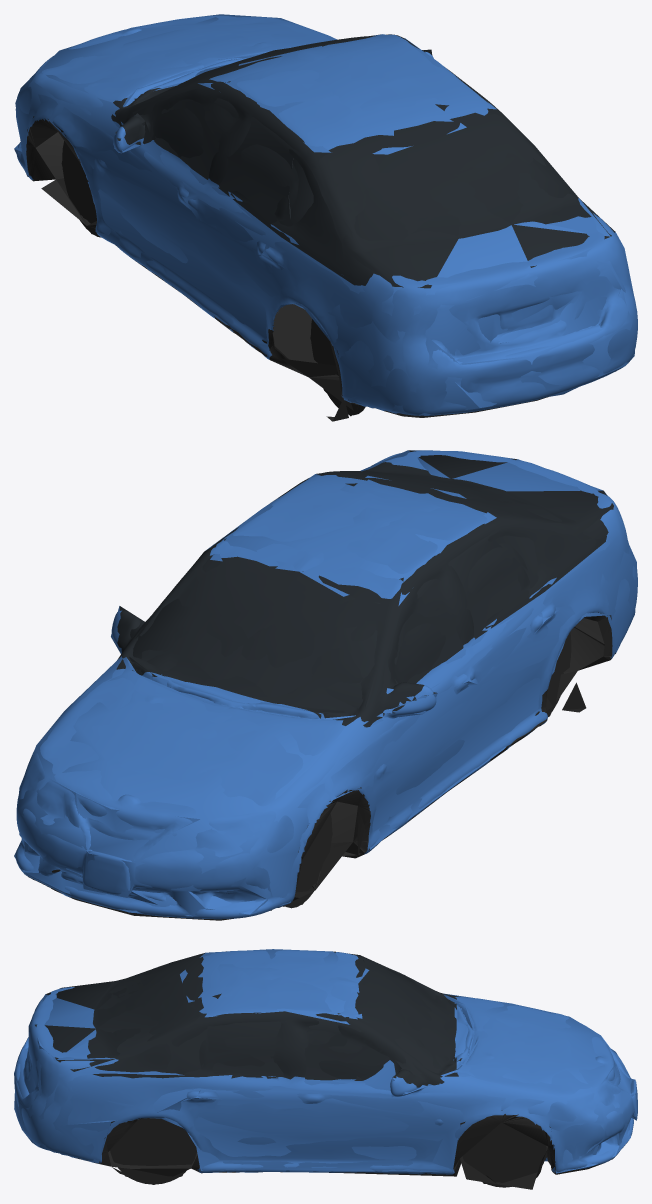
The model's file is saab-9-3.glb.
3 renders of one model, top to bottom at view 1: azimuth 30°, elevation 25°; view 2: azimuth 150°, elevation 25°; view 3: azimuth 270°, elevation 25°, orthographic. The views are drawn at different scales.
Parts seen in each view (by area): view 1: body, far; view 2: body, far; view 3: body, far.
Boxes of the visible parts, x1,y1,x2,y2 form: body: (15,15,637,421); far: (14,14,637,421); body: (16,450,637,920); far: (14,450,636,916); body: (14,950,637,1189); far: (14,949,637,1184).
Size of the model in its own units: 2.01 by 1.45 by 4.72.
